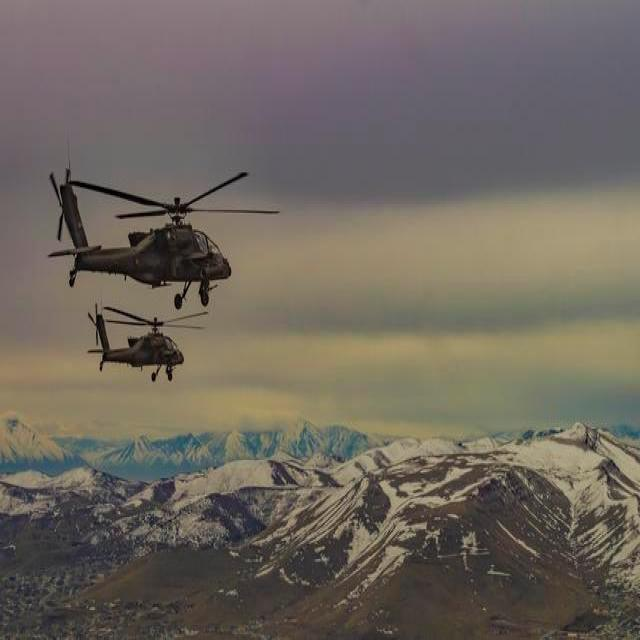MIL_HELO: (30, 159, 284, 308), (85, 300, 208, 384)
